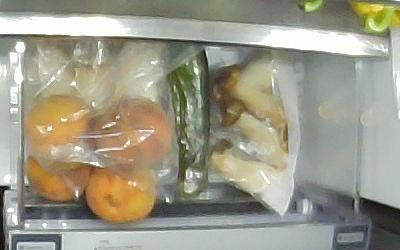peach_vinyl: (92, 94, 171, 169), (25, 93, 97, 167), (84, 165, 155, 222), (25, 152, 90, 201)
